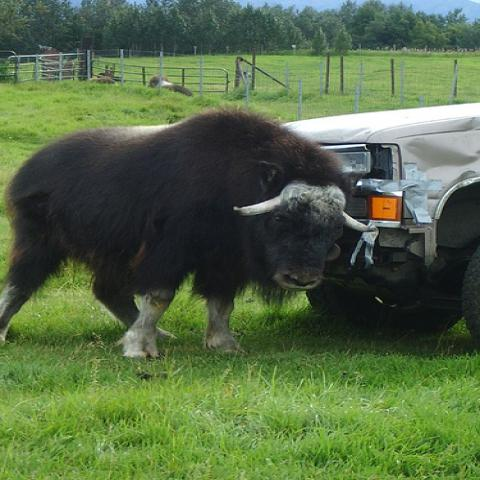truck: (282, 102, 478, 336)
